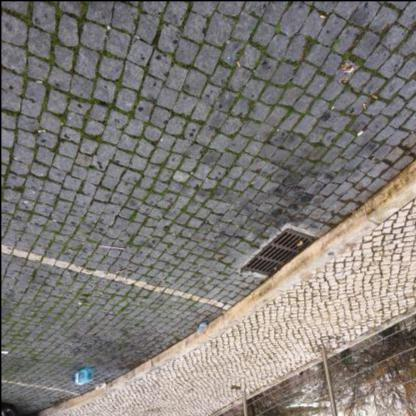Bottle cap: (71, 366, 93, 384), (194, 321, 206, 332)
Cigarette: (235, 60, 239, 67), (361, 102, 365, 108), (370, 94, 376, 98), (330, 105, 334, 109), (67, 247, 71, 251), (351, 209, 355, 212), (139, 297, 144, 299), (86, 304, 90, 306), (108, 310, 112, 312), (146, 235, 150, 237), (95, 286, 98, 288), (87, 290, 90, 292), (79, 328, 82, 330), (170, 304, 173, 306), (219, 298, 222, 300), (221, 310, 224, 312), (106, 372, 109, 374), (66, 270, 68, 272), (99, 291, 101, 293), (87, 314, 91, 315), (137, 302, 139, 304), (159, 332, 161, 334), (159, 278, 161, 280), (161, 279, 163, 281), (236, 224, 238, 226), (196, 322, 197, 324), (209, 266, 210, 268), (20, 371, 22, 372)
